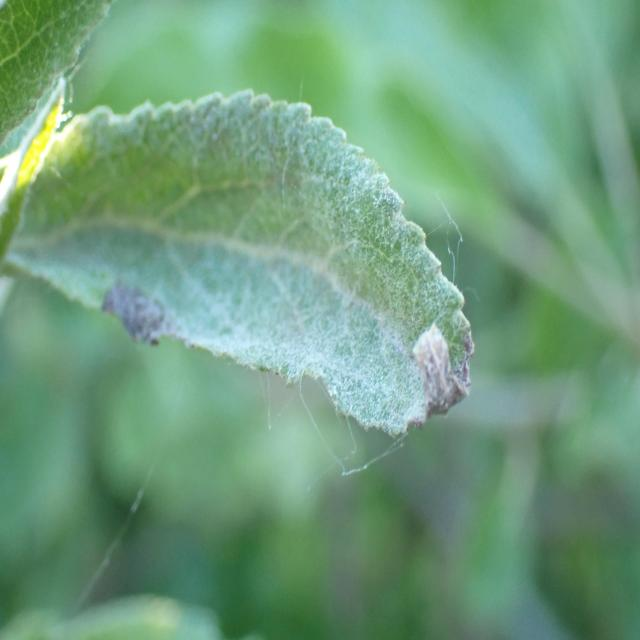Powdery_mildew: (22, 78, 471, 467)
